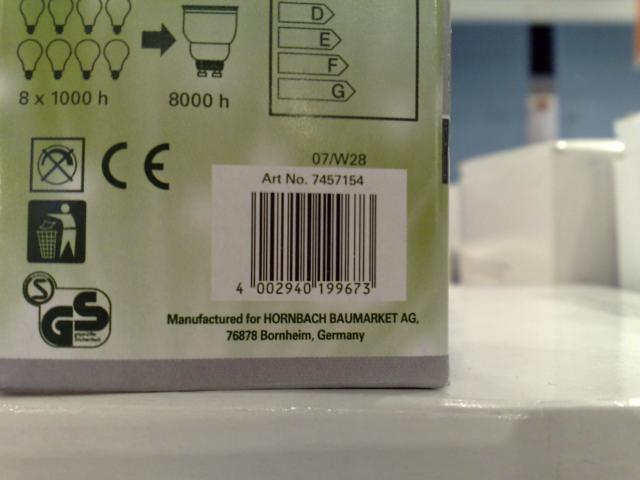Barcode: (229, 190, 385, 299)
